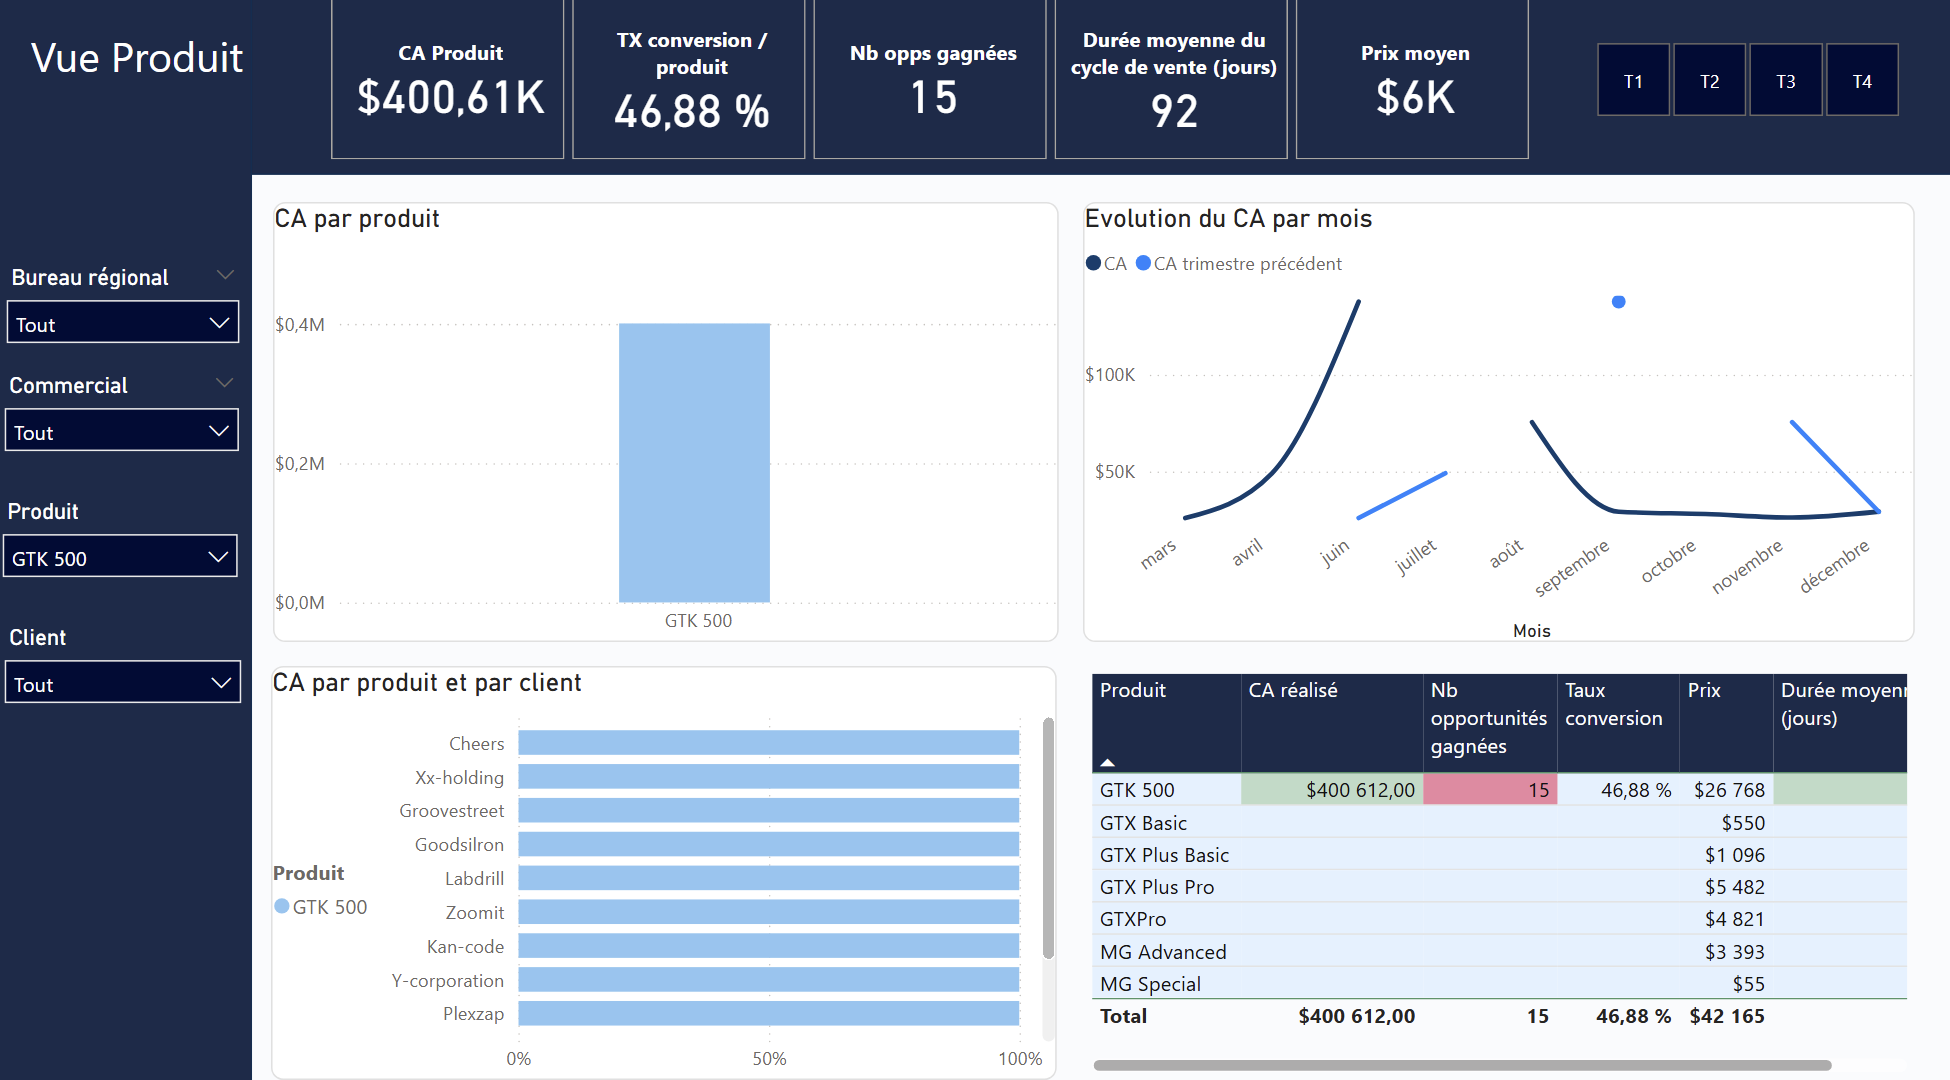

The dashboard page shown, as its layout file describes it:
{"tool":"powerbi","page":{"name":"Produit","canvas":[1280,720],"ordinal":1},"visuals":[{"type":"shape","box":[158.5,0,1121.6,122.9],"z":0},{"type":"shape","box":[0,0,170,718.6],"z":1000},{"type":"slicer","fields":{"Values":["sales_teams.sales_agent"]},"box":[4.4,251.2,162.3,75.4],"z":2000},{"type":"slicer","fields":{"Values":["sales_teams.Bureau régional"]},"box":[5.3,181.2,161.4,58.5],"z":3000},{"type":"slicer","fields":{"Values":["DimCalendar_Close_Date.Trimestre"]},"box":[1025.2,35.7,236.5,51.5],"z":4000},{"type":"slicer","fields":{"Values":["sales_pipeline.product"]},"box":[2.6,333.7,163.2,75.4],"z":6000},{"type":"slicer","fields":{"Values":["sales_pipeline.account"]},"box":[4,414.8,163.8,75.3],"z":7000},{"type":"cardVisual","fields":{"Data":["Mesure.CA","Mesure.Taux_Conversion","Mesure.nb_won_opps","Mesure.Duree_moyenne_cycle","Mesure.Prix moyen"]},"box":[221.9,4,782.1,113.6],"z":8000},{"type":"lineChart","title":"Evolution du CA par mois","fields":{"Category":["DimCalendar_Close_Date.Mois (nom)"],"Y":["Mesure.CA Won","Mesure.CA_Mois_Precedent"]},"box":[710.8,140,541.7,286.7],"z":9000},{"type":"textbox","box":[21.1,22.5,171.7,54.2],"z":11000},{"type":"hundredPercentStackedBarChart","title":"CA par produit et par client","fields":{"Category":["sales_pipeline.account"],"Y":["Mesure.CA"],"Series":["products.product"]},"box":[182.3,442.6,511.3,269.5],"z":12000},{"type":"columnChart","title":"CA par produit","fields":{"Y":["Mesure.CA"],"Category":["products.product"],"Series":["products.product"]},"box":[183.6,140,511.3,286.7],"z":13000},{"type":"tableEx","fields":{"Values":["products.product","Mesure.CA","Mesure.nb_won_opps","Mesure.Taux_Conversion","Sum(products.sales_price)","Mesure.Duree_moyenne_cycle"]},"box":[710.8,442.6,541.7,269.5],"z":13001}]}

Visuals, with their boxes in screenshot pixels (x1, y1, x2, y2), scaled from the page's 1280x720 canvas onto the 1950x1080 screenshot:
shape: l=241, t=0, r=1949, b=184
shape: l=0, t=0, r=259, b=1078
slicer - sales_teams.sales_agent: l=7, t=377, r=254, b=490
slicer - sales_teams.Bureau régional: l=8, t=272, r=254, b=360
slicer - DimCalendar_Close_Date.Trimestre: l=1562, t=54, r=1922, b=131
slicer - sales_pipeline.product: l=4, t=501, r=253, b=614
slicer - sales_pipeline.account: l=6, t=622, r=256, b=735
cardVisual - Mesure.CA x Mesure.Taux_Conversion: l=338, t=6, r=1530, b=176
"Evolution du CA par mois" lineChart: l=1083, t=210, r=1908, b=640
textbox: l=32, t=34, r=294, b=115
"CA par produit et par client" hundredPercentStackedBarChart: l=278, t=664, r=1057, b=1068
"CA par produit" columnChart: l=280, t=210, r=1059, b=640
tableEx - products.product x Mesure.CA: l=1083, t=664, r=1908, b=1068
